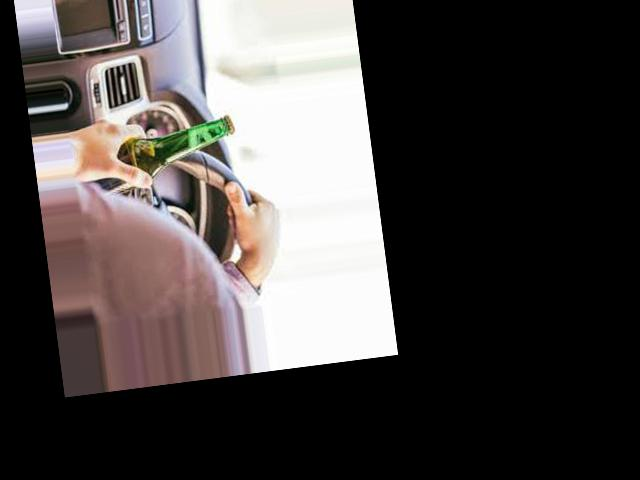beer: (84, 113, 241, 196)
